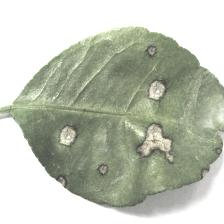canker: (49, 36, 221, 203)
